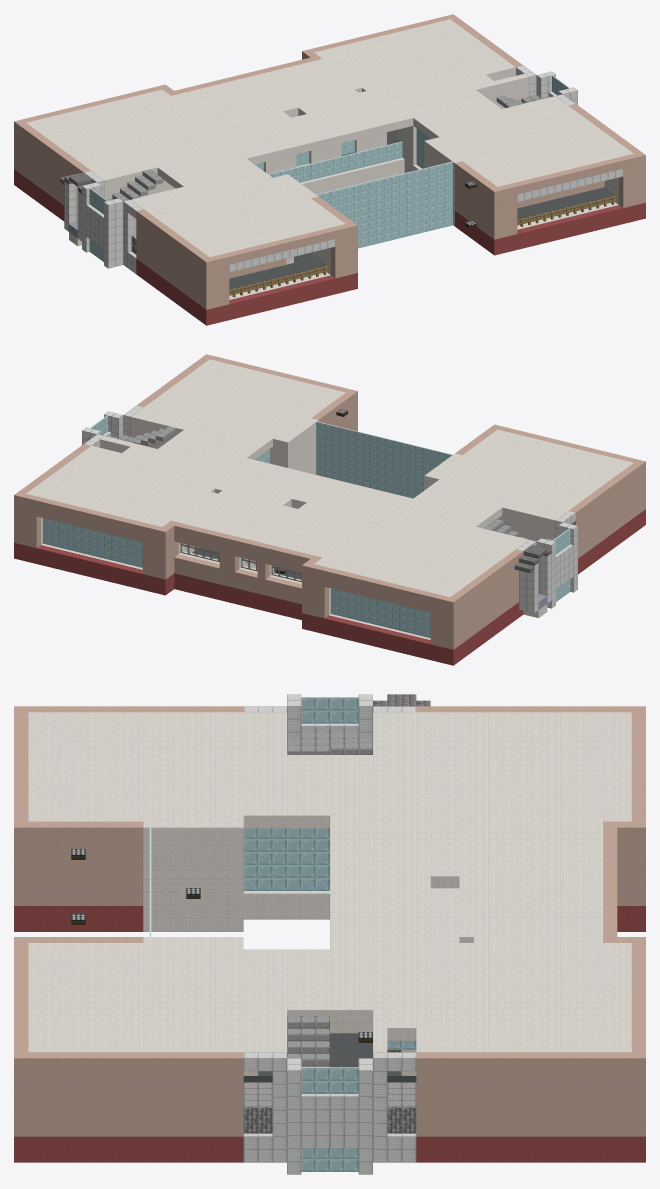
File: senkoka2F.obj
3 renders of one model, top to bottom at view 1: azimuth 30°, elevation 25°; view 2: azimuth 150°, elevation 25°; view 3: azimuth 270°, elevation 25°, orthographic. The views are drawn at different scales.
Visible parts, largest first — view 1: R1KosenWorld__5_72_-217_to_66_79_-163; view 2: R1KosenWorld__5_72_-217_to_66_79_-163; view 3: R1KosenWorld__5_72_-217_to_66_79_-163.
Boxes of the visible parts, <box> form: R1KosenWorld__5_72_-217_to_66_79_-163: <box>14,14,645,325</box>; R1KosenWorld__5_72_-217_to_66_79_-163: <box>14,354,645,665</box>; R1KosenWorld__5_72_-217_to_66_79_-163: <box>14,694,645,1174</box>.
Bounding box in the file's own units: 62 × 8 × 44.
